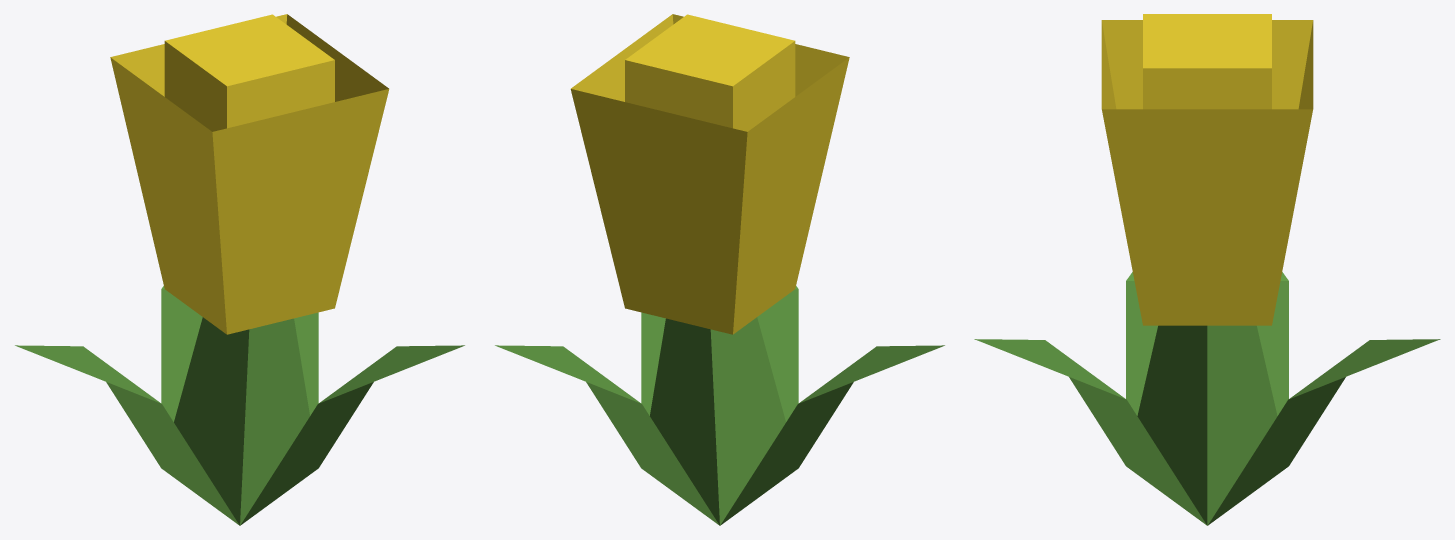
File: flower-3.glb
3 renders of one model, left to right at view 1: azimuth 30°, elevation 25°; view 2: azimuth 150°, elevation 25°; view 3: azimuth 270°, elevation 25°, orthographic. The views are drawn at different scales.
Parts seen in each view (by area): view 1: flower_yellowA; view 2: flower_yellowA; view 3: flower_yellowA.
Part boxes in pixels (bbox=[...]): flower_yellowA: bbox=[15, 14, 464, 525]; flower_yellowA: bbox=[495, 14, 944, 525]; flower_yellowA: bbox=[974, 14, 1440, 525].
Size of the model in its own units: 0.248 by 0.3 by 0.2822.
